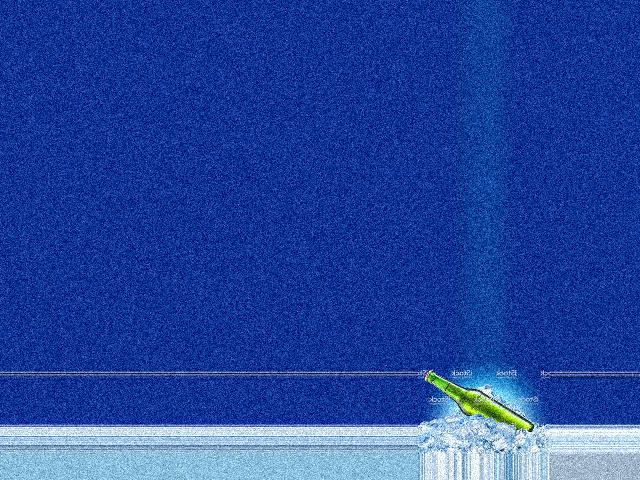beer: (423, 369, 533, 432)
